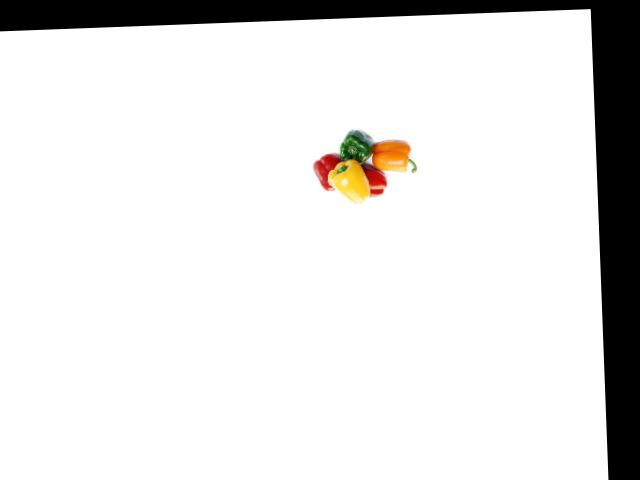bell_pepper: (330, 124, 376, 173)
